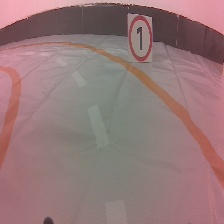limit: (126, 11, 154, 65)
